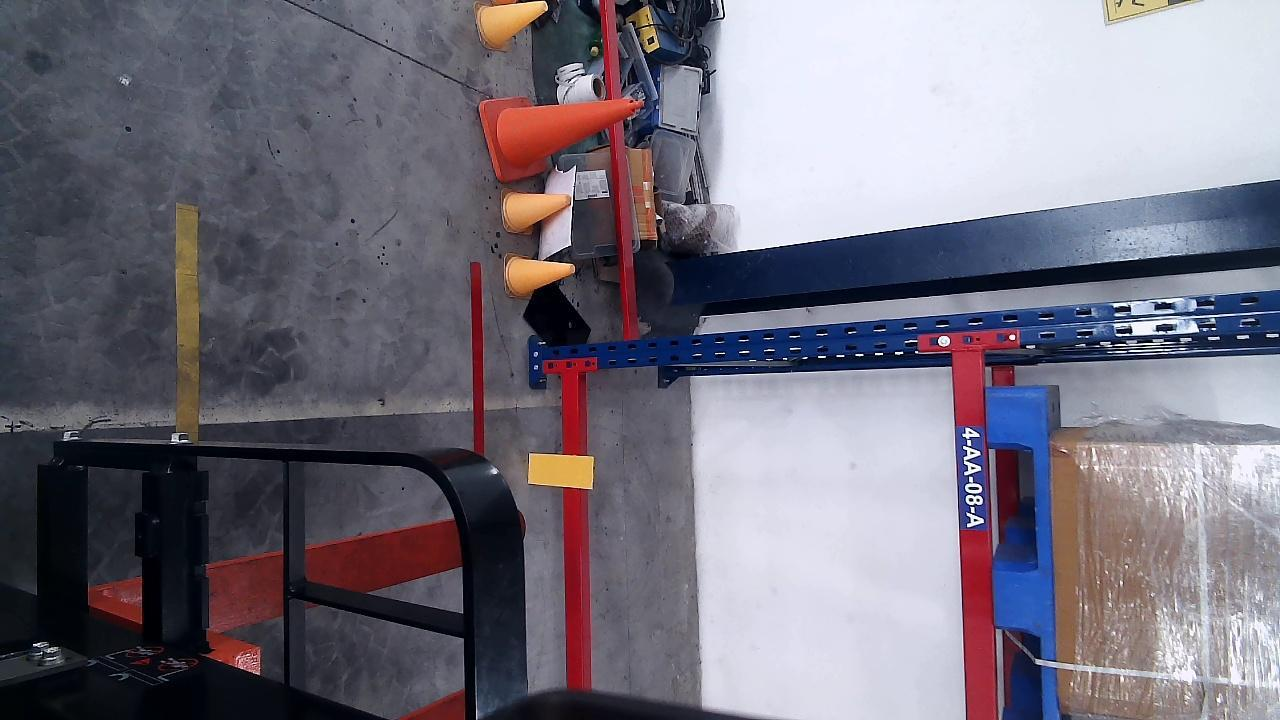h_rack: (947, 349, 996, 716), (562, 371, 592, 685)
orange_strip: (530, 455, 595, 489)
red_line: (470, 259, 486, 453)
small_pallet: (985, 388, 1062, 718)
yellow_line: (176, 201, 202, 435)
